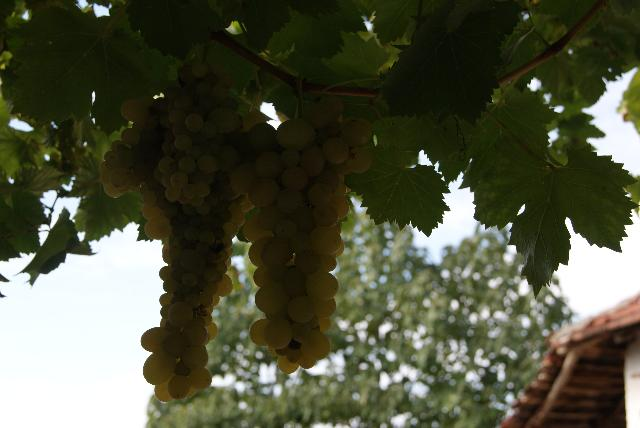grapes: (99, 61, 275, 400), (230, 96, 372, 374), (168, 375, 191, 400)
